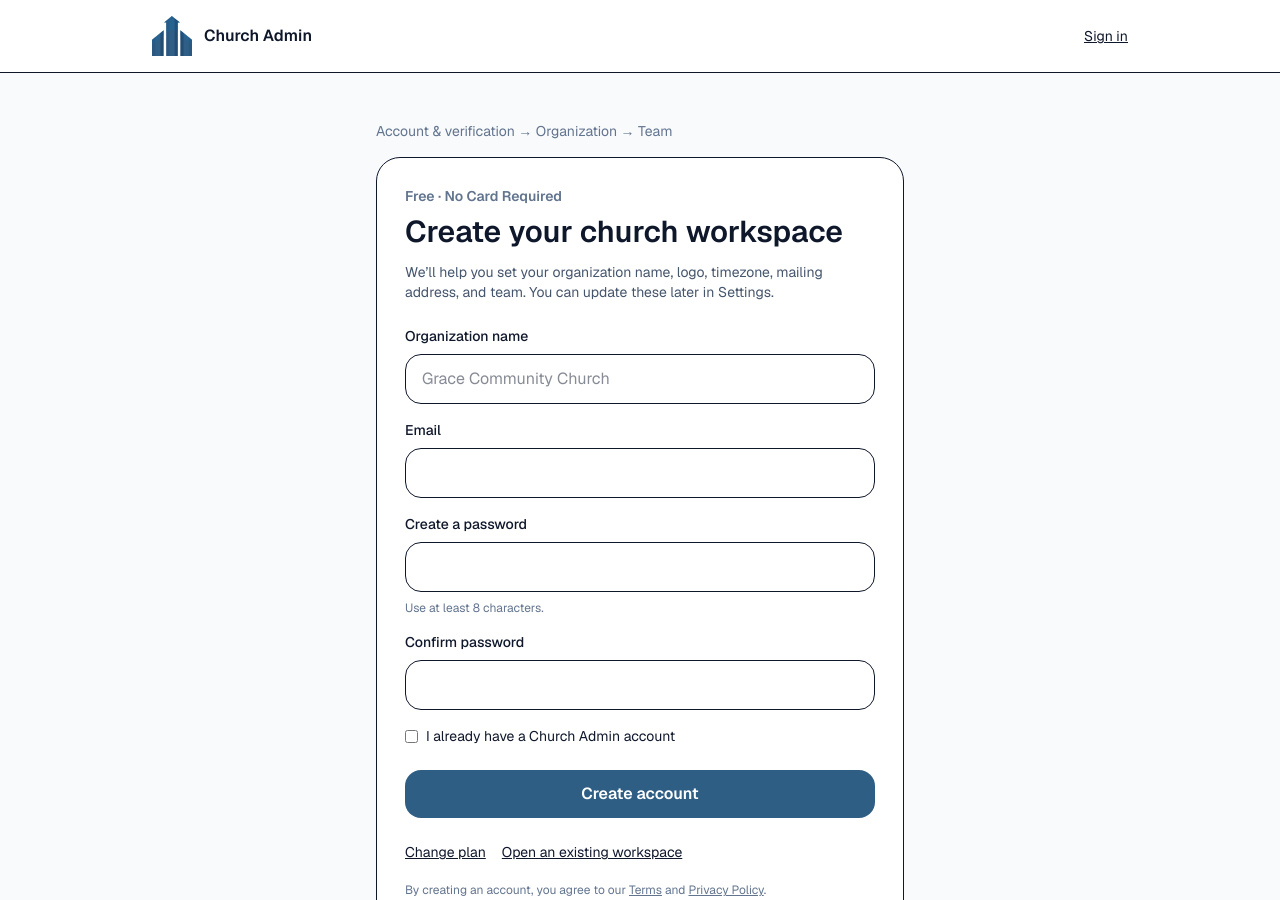
it: allows retrying a verification email after provider failure
Type "Grace Church" into the field labelled "Organization name". click: (640, 379)
box: [405, 354, 875, 404]
Type "owner@example.invalid" into the field labelled "Email". click: (640, 473)
box: [405, 448, 875, 498]
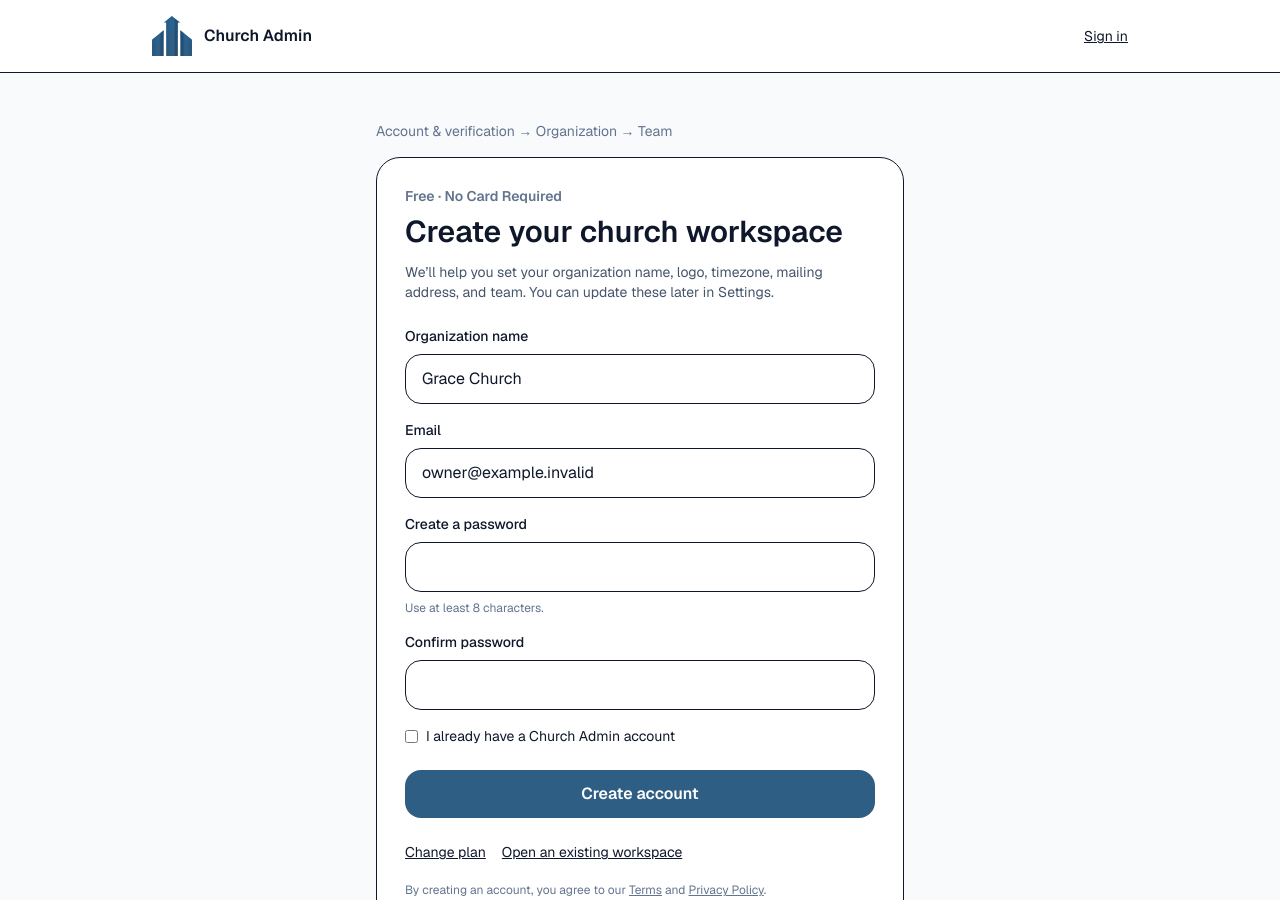
Type "test-password" into the password field labelled "Create a password". click: (640, 567)
box: [405, 542, 875, 592]
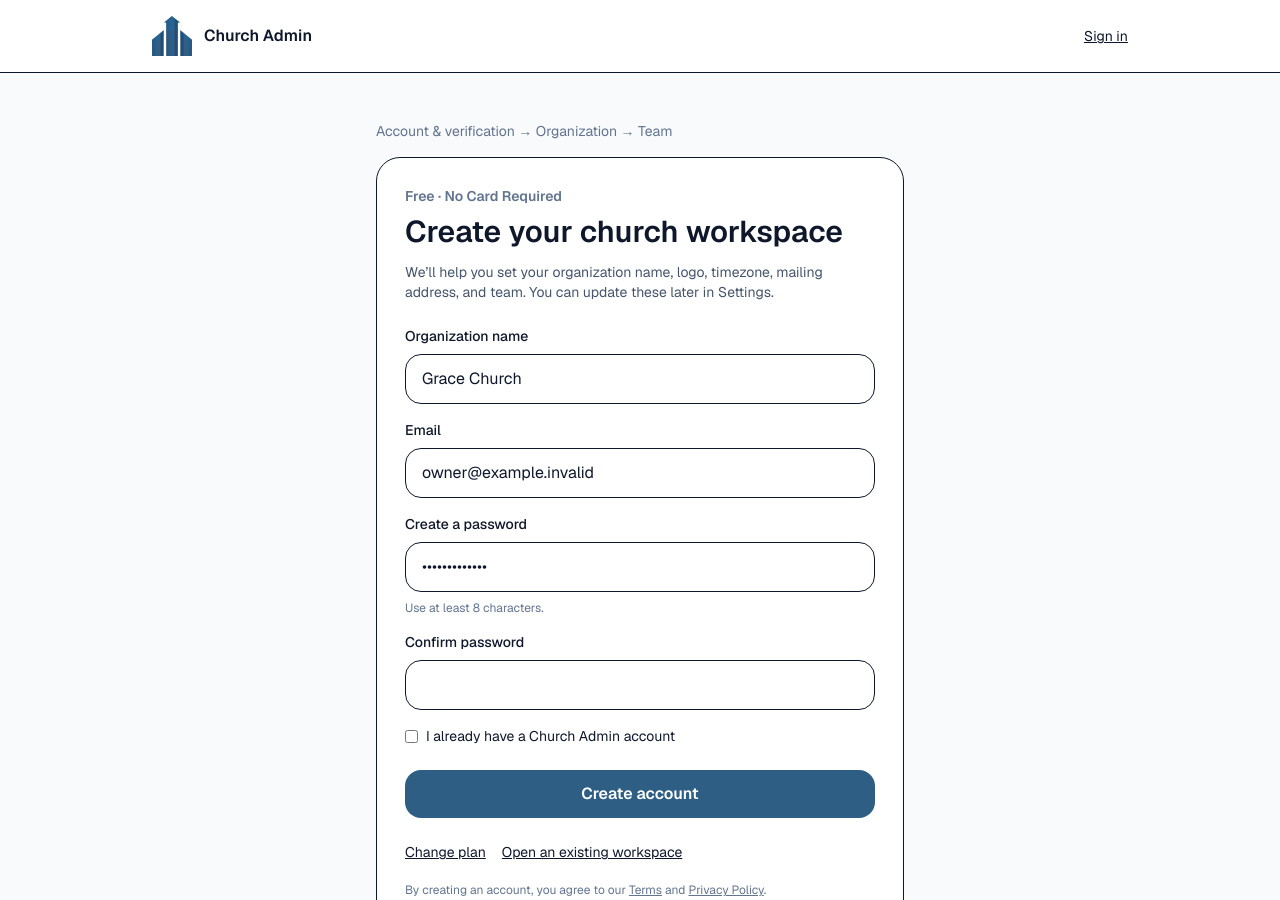
Type "test-password" into the password field labelled "Confirm password". click: (640, 685)
box: [405, 660, 875, 710]
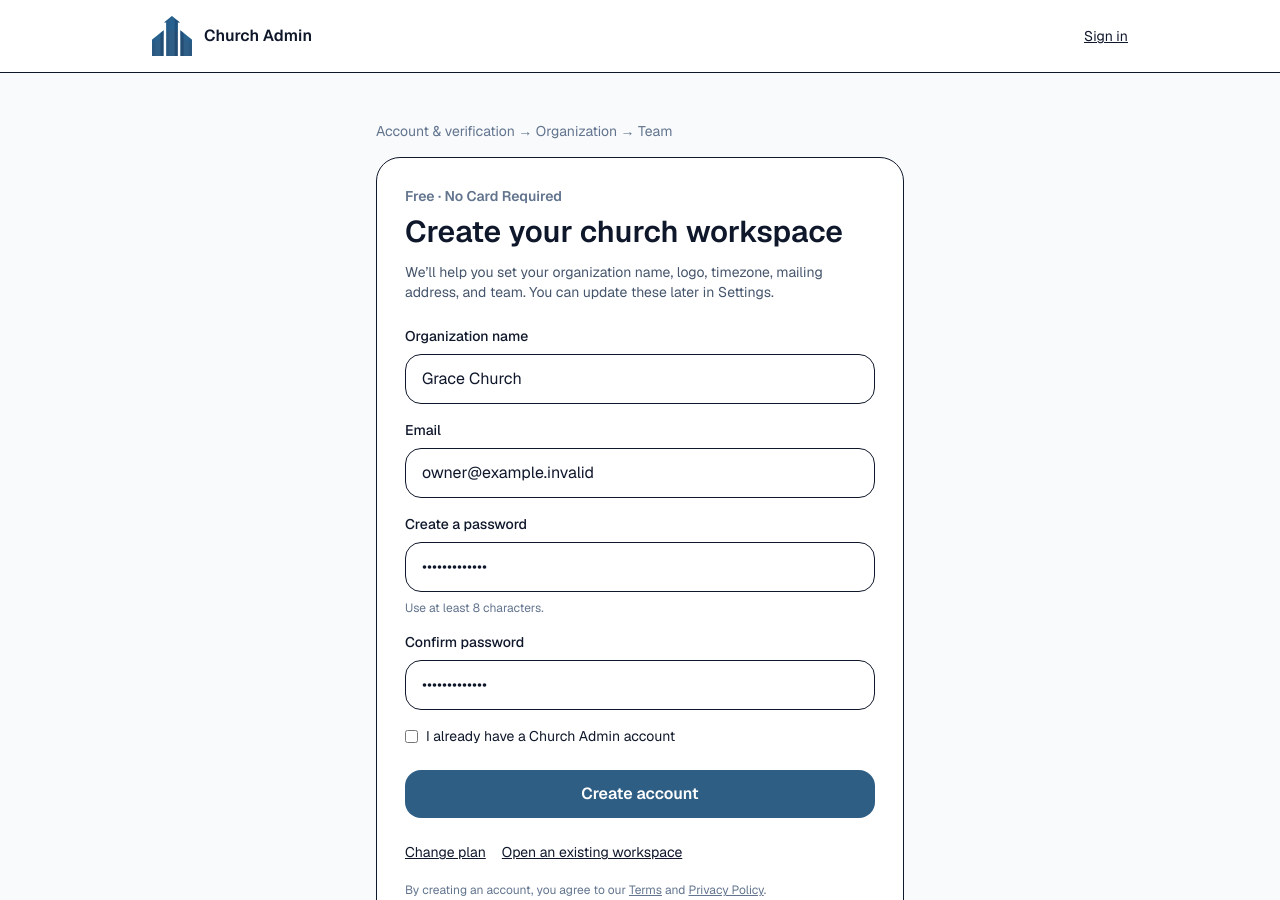
Click the button "Create account". click: (640, 794)
box: [405, 770, 875, 818]
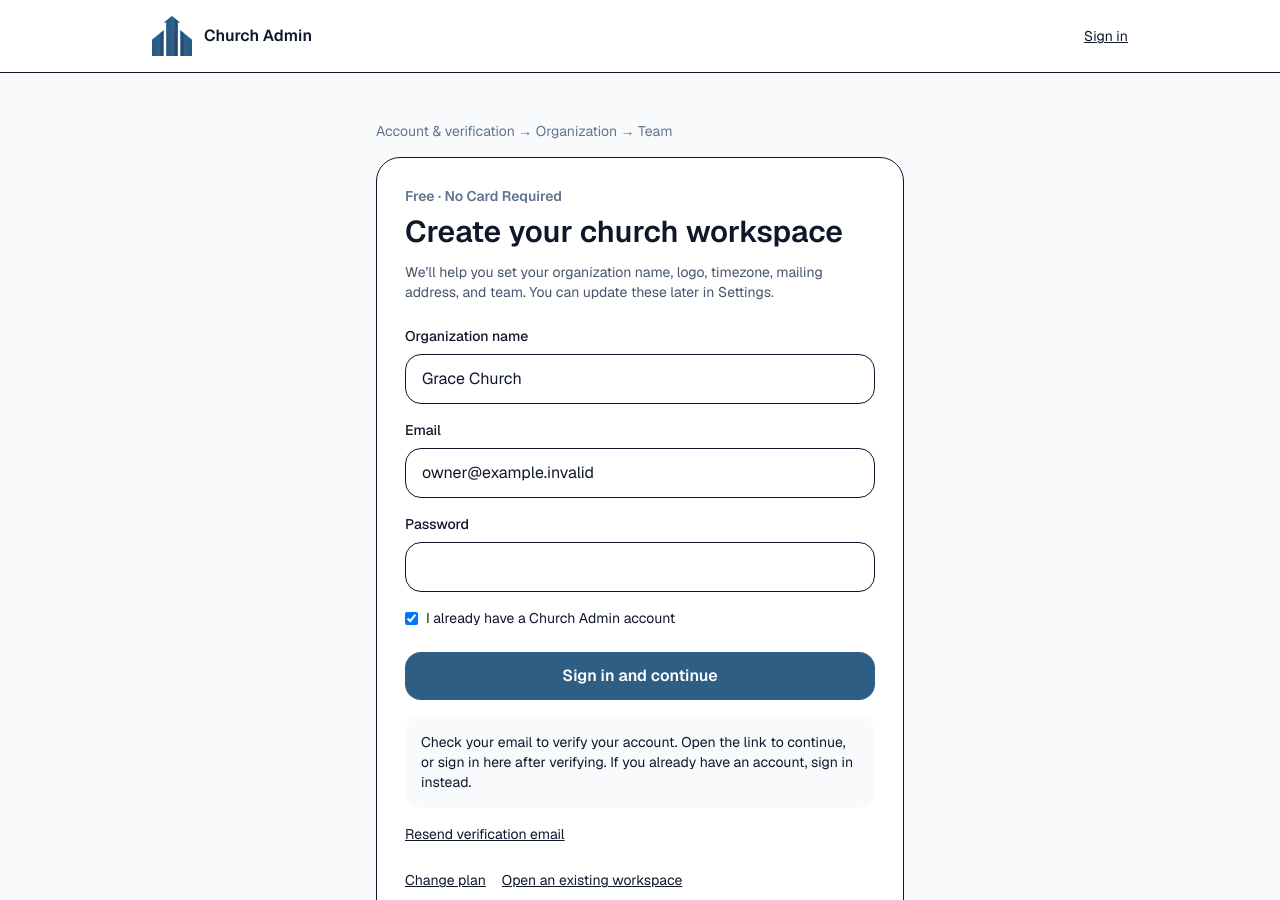
Click the button "Resend verification email". click: (485, 834)
box: [405, 824, 565, 844]
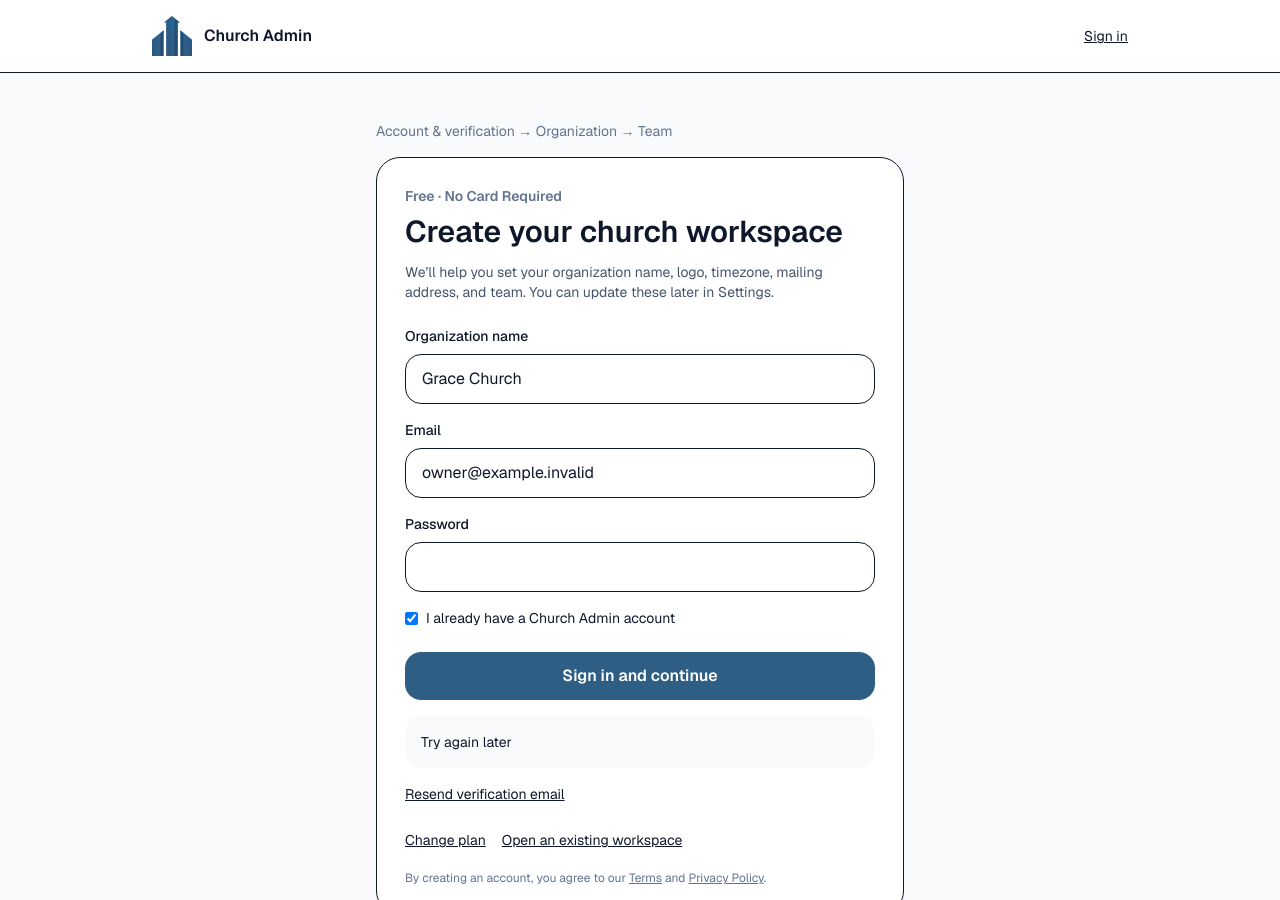
Expected: the button "Resend verification email" is enabled
Expected: the text "Try again later" is shown, [405, 716, 875, 768]
Click the button "Resend verification email". click: (485, 794)
box: [405, 784, 565, 804]
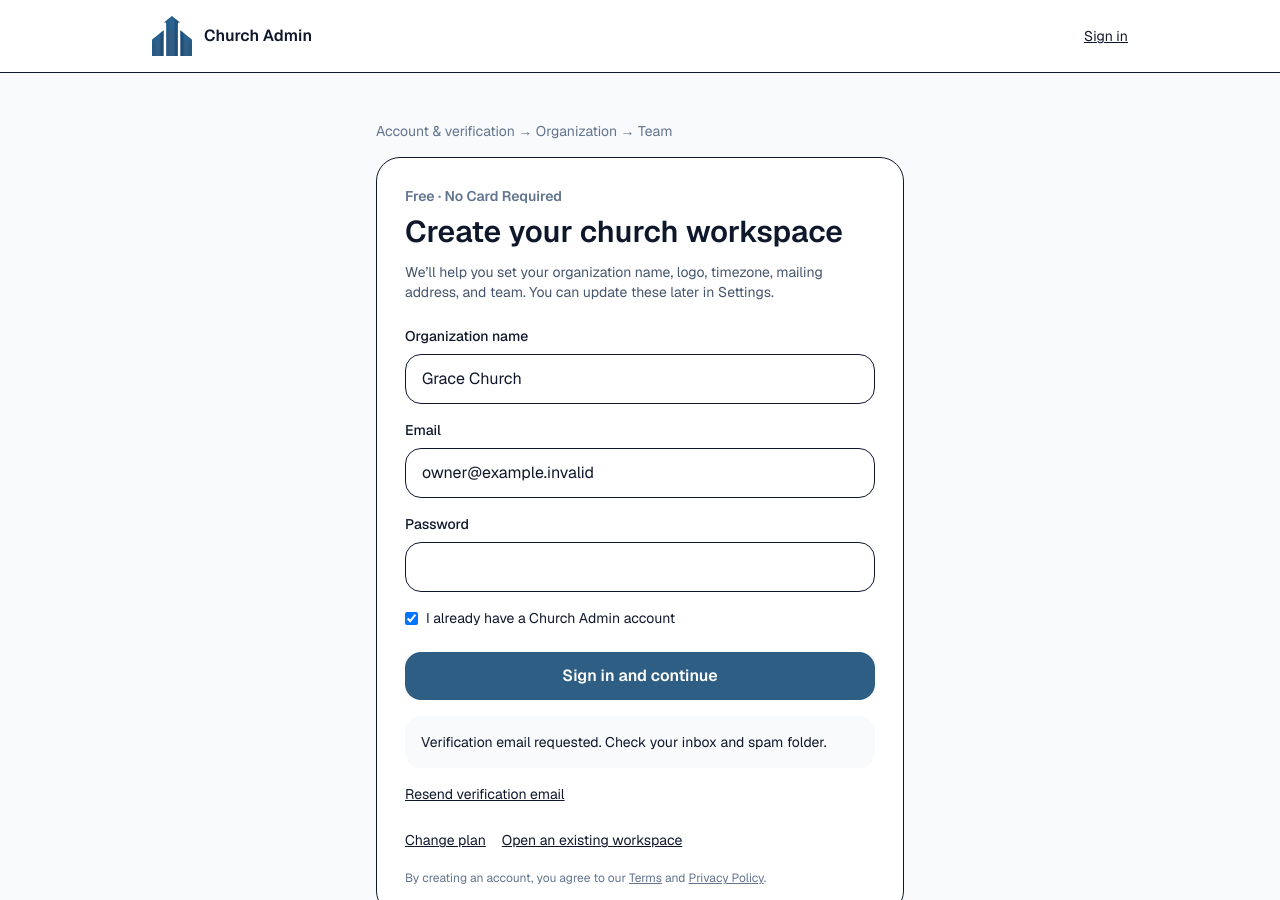
Expected: the text "Verification email requested. Check your inbox and spam folder." is shown, [405, 716, 875, 768]
